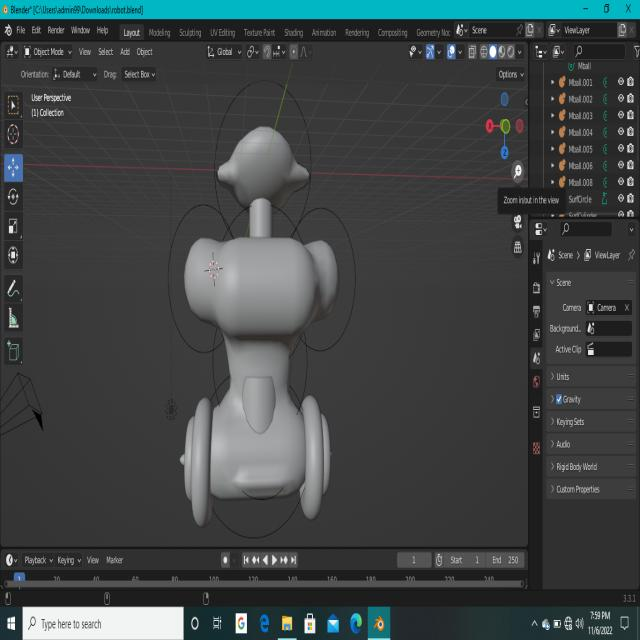man: (174, 125, 358, 537)
